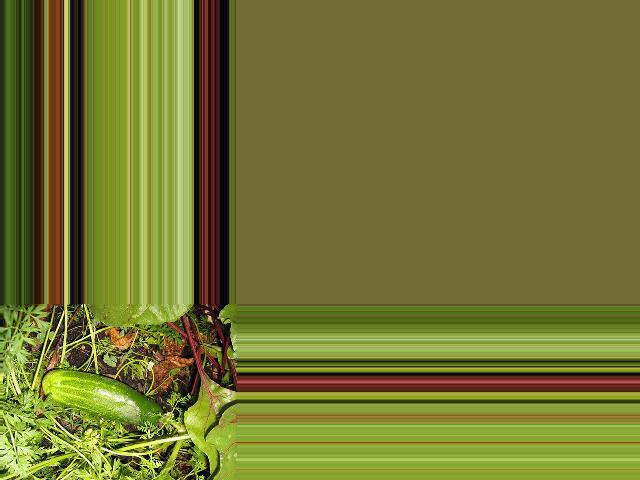cucumber: (44, 369, 164, 428)
